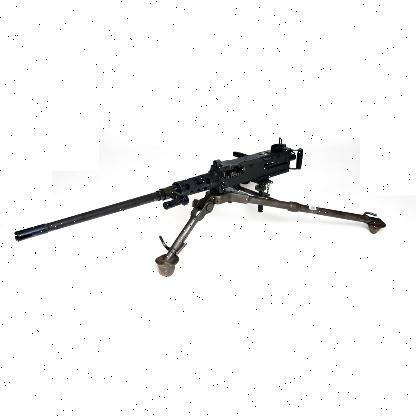gun: (13, 138, 304, 274)
